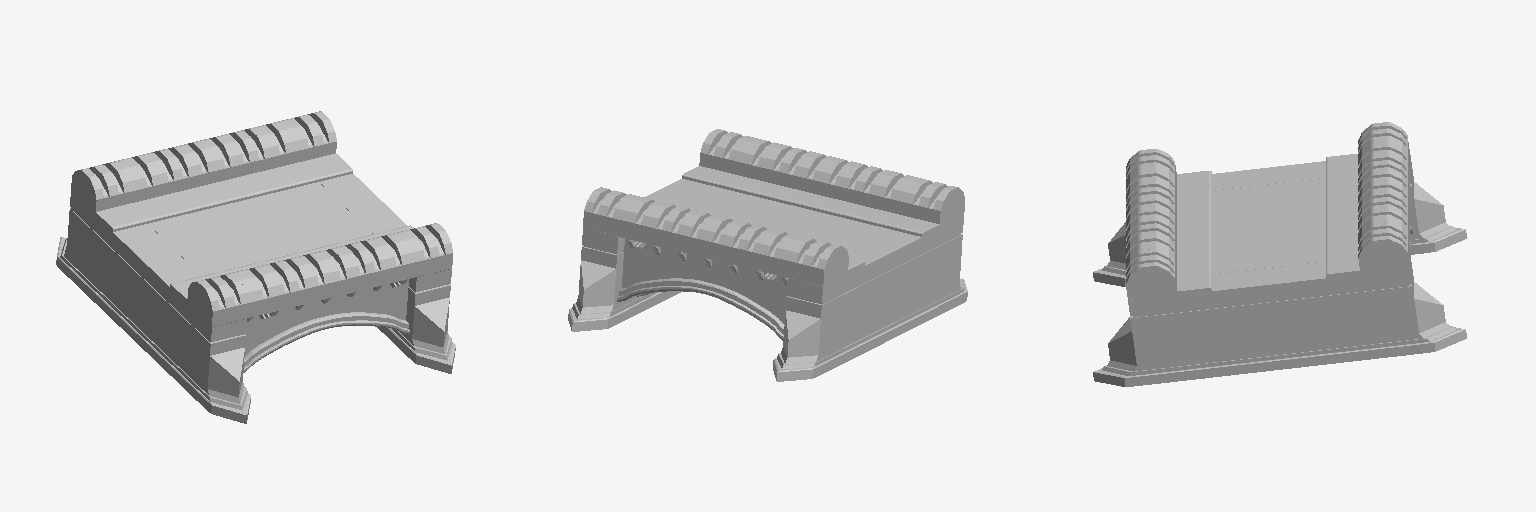
Rendered from bridge.obj.
3 renders of one model, left to right at view 1: azimuth 30°, elevation 25°; view 2: azimuth 150°, elevation 25°; view 3: azimuth 270°, elevation 25°, orthographic.
Parts seen in each view (by area): view 1: Right_Pillar; view 2: Right_Pillar; view 3: Right_Pillar.
Boxes of the visible parts, box(x1,y1,x2,y2) form: Right_Pillar: box(56, 111, 455, 423); Right_Pillar: box(568, 129, 967, 381); Right_Pillar: box(1093, 122, 1466, 386).
Size of the model in its own units: 6.93 by 4.07 by 9.17.